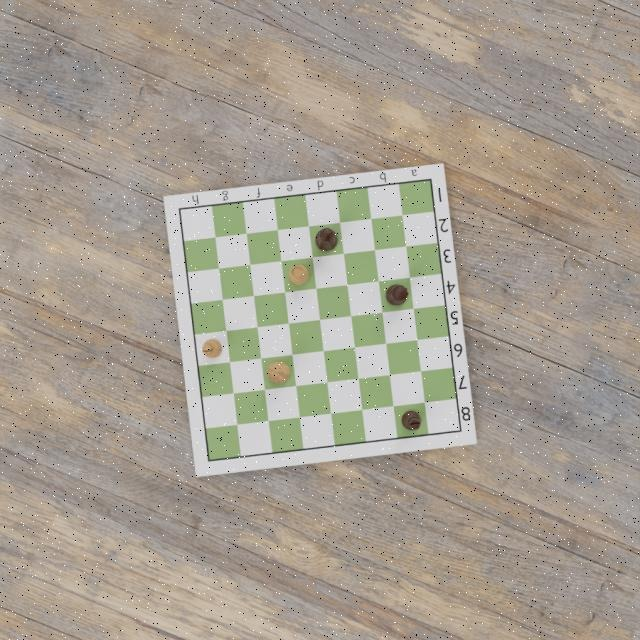black-bishop: (401, 409, 423, 433)
black-king: (314, 226, 338, 253)
black-queen: (386, 284, 410, 308)
white-bishop: (201, 336, 224, 359)
white-king: (266, 359, 292, 385)
white-rook: (287, 262, 309, 285)
